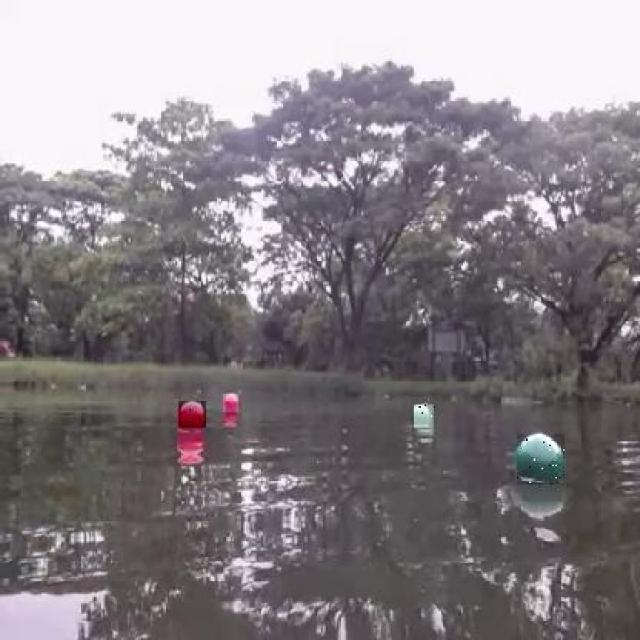green_ball: (517, 431, 565, 484), (412, 405, 434, 430)
red_ball: (179, 401, 204, 428), (222, 394, 239, 414)
